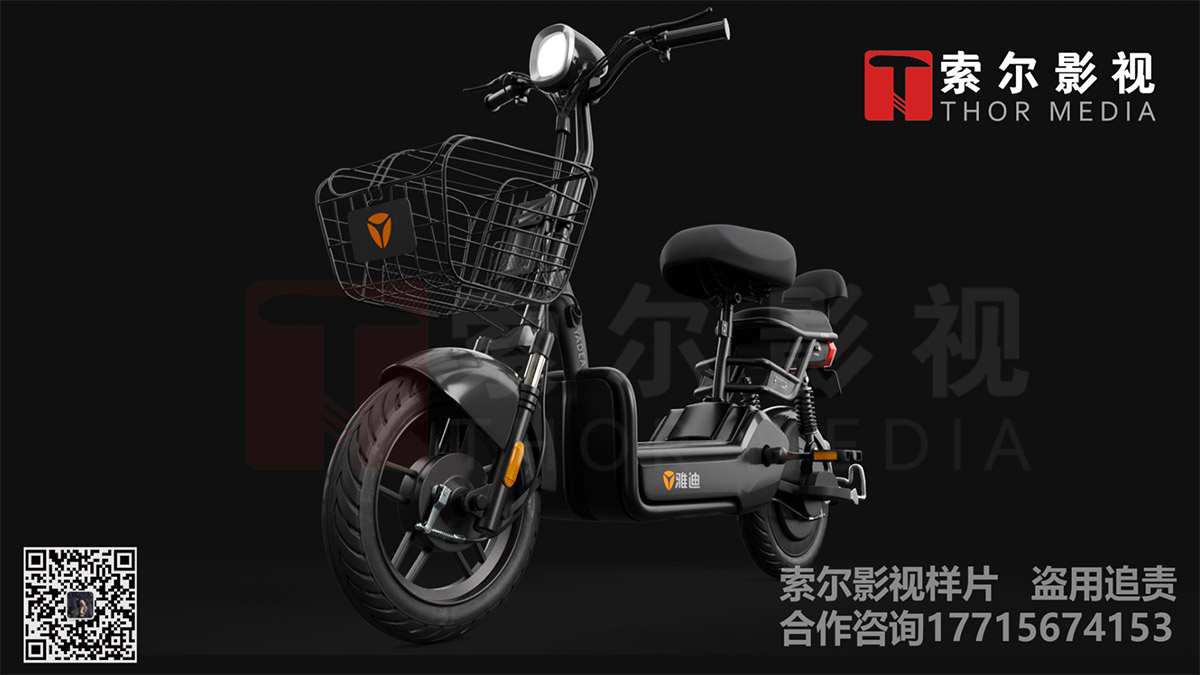MNV: (312, 20, 858, 639)
